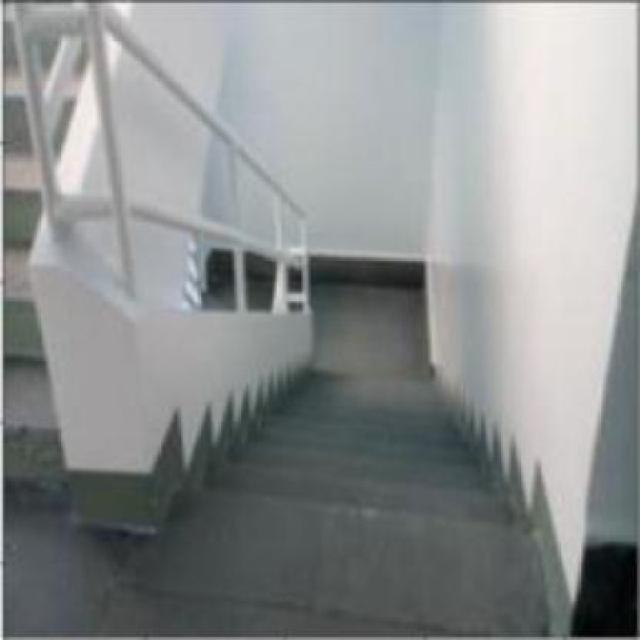stair: (198, 347, 560, 550)
